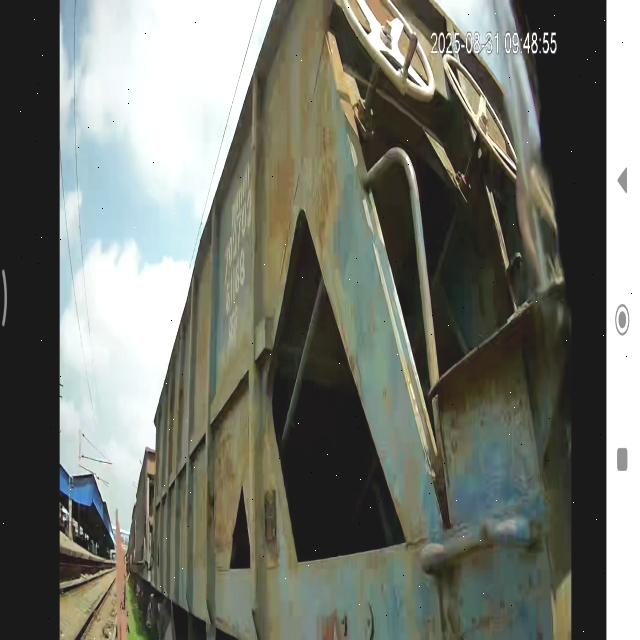coach: (156, 0, 432, 640)
